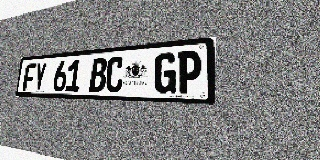1: (65, 60, 82, 92)
6: (53, 61, 68, 92)
B: (89, 58, 107, 92)
C: (105, 56, 125, 93)
F: (22, 63, 36, 91)
G: (154, 52, 177, 94)
P: (176, 50, 202, 94)
Y: (33, 62, 47, 91)
